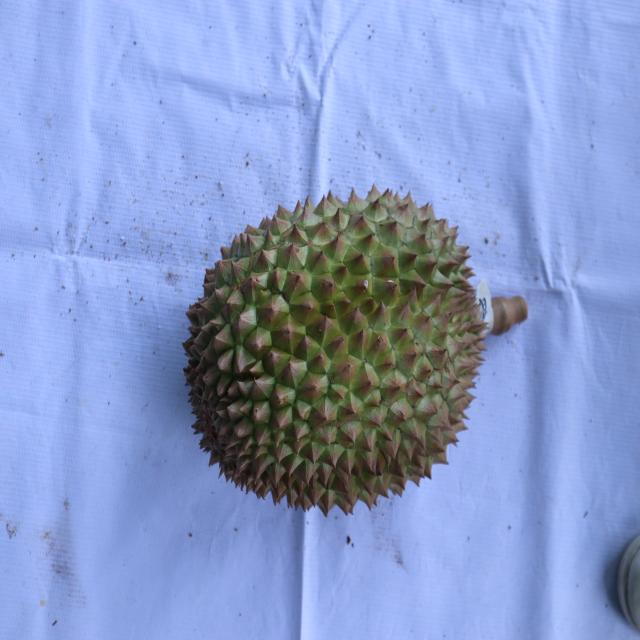mature: (183, 180, 488, 523)
